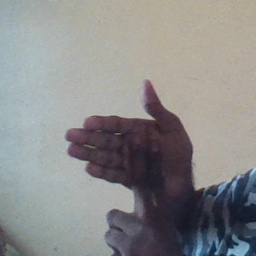N: (62, 75, 205, 256)
